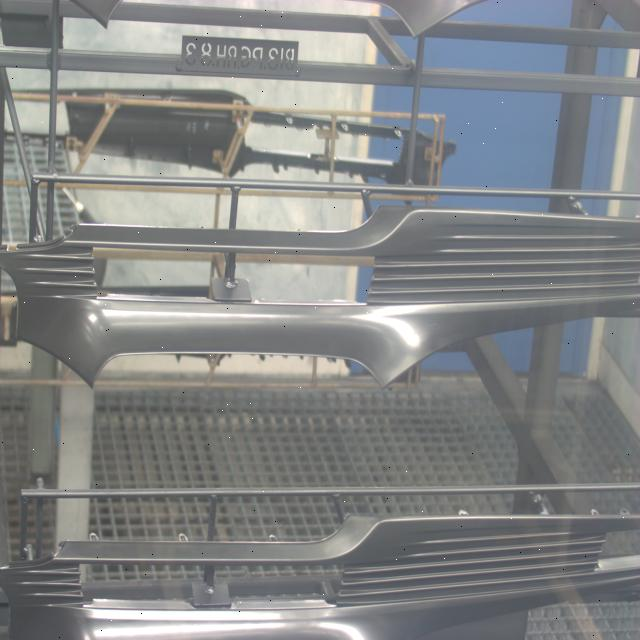Non_primered: (0, 212, 640, 396), (0, 508, 640, 640)
